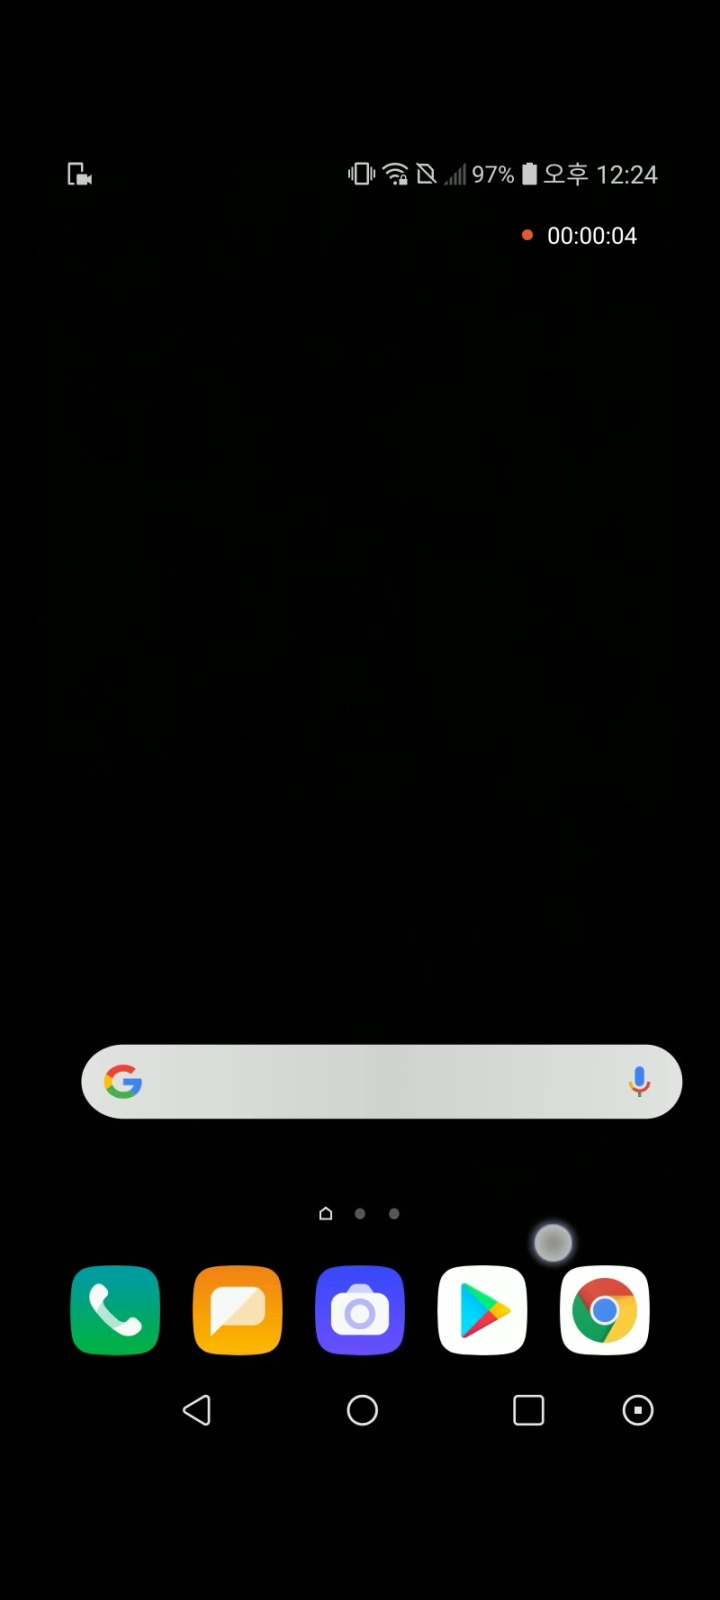Cursor: (532, 1219, 577, 1264)
